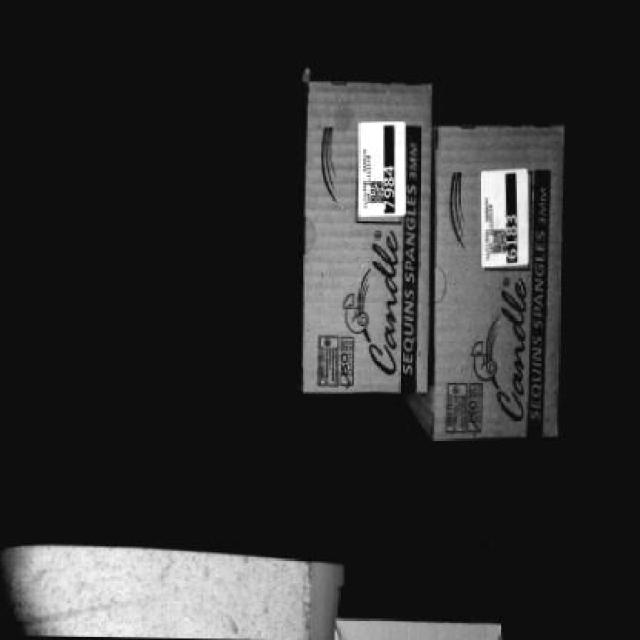cardboxes: (308, 83, 442, 412), (437, 132, 563, 432)
